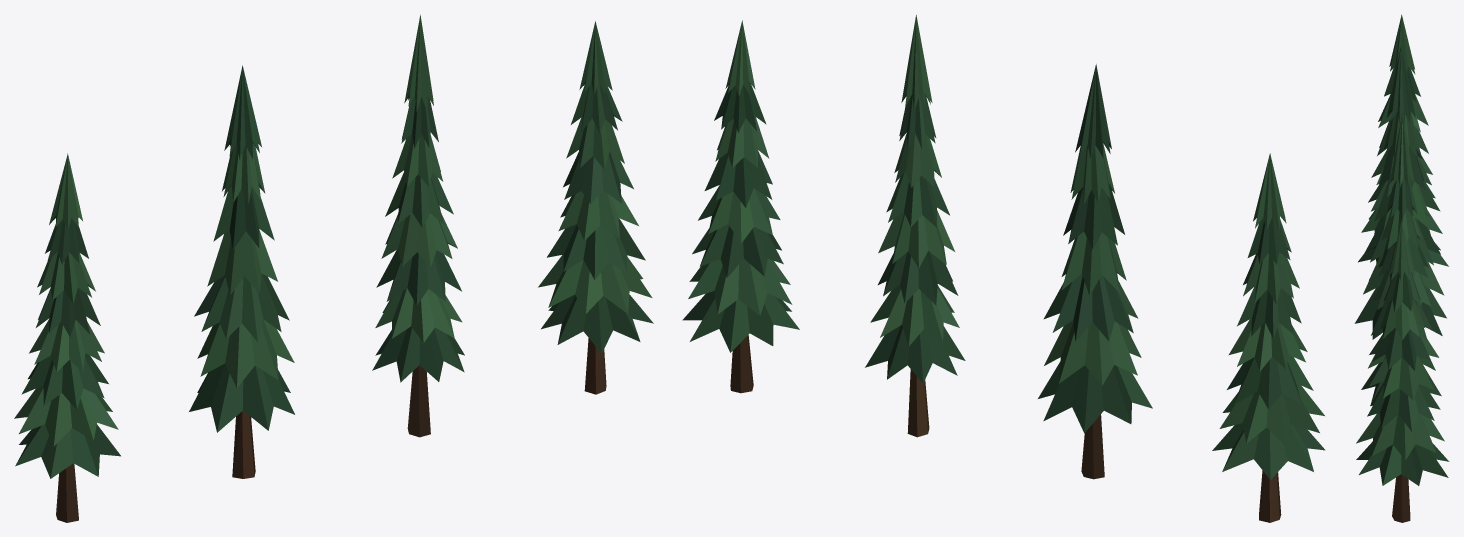
The model's file is ranvora_v2_spruce.glb.
The picture shows the model from 3 angles, left to right: view 1: azimuth 30°, elevation 25°; view 2: azimuth 150°, elevation 25°; view 3: azimuth 270°, elevation 25°; orthographic projection. The views are drawn at different scales.
Visible parts, largest first — view 1: spruce_B_mesh, spruce_D_mesh, spruce_C_mesh, spruce_A_mesh; view 2: spruce_B_mesh, spruce_D_mesh, spruce_A_mesh, spruce_C_mesh; view 3: spruce_D_mesh, spruce_B_mesh, spruce_C_mesh, spruce_A_mesh.
Boxes of the visible parts, left/top/right/bottom form: spruce_B_mesh: left=189, top=65, right=294, bottom=478; spruce_D_mesh: left=538, top=21, right=653, bottom=394; spruce_C_mesh: left=372, top=14, right=464, bottom=437; spruce_A_mesh: left=14, top=153, right=120, bottom=522; spruce_B_mesh: left=1038, top=64, right=1152, bottom=479; spruce_D_mesh: left=682, top=20, right=799, bottom=393; spruce_A_mesh: left=1212, top=153, right=1325, bottom=522; spruce_C_mesh: left=865, top=15, right=965, bottom=437; spruce_D_mesh: left=1356, top=220, right=1449, bottom=522; spruce_B_mesh: left=1354, top=46, right=1446, bottom=339; spruce_C_mesh: left=1361, top=112, right=1441, bottom=403; spruce_A_mesh: left=1358, top=14, right=1448, bottom=266.
Size of the model in its own units: 17.8 by 11.3 by 2.88.
